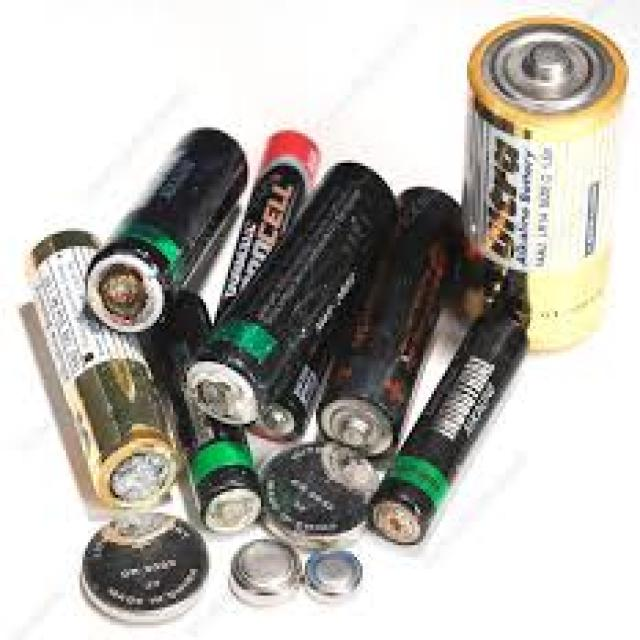battery: (20, 129, 537, 604), (371, 18, 626, 542)
